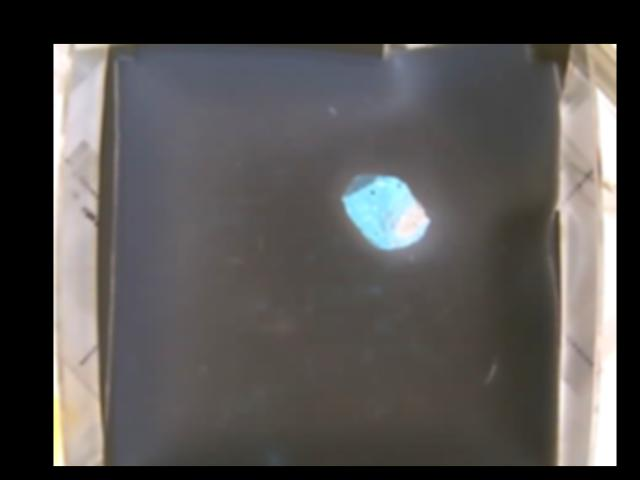Brisk: (344, 175, 430, 251)
